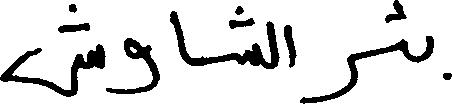X: (0, 0, 104, 101), (106, 33, 157, 98), (305, 48, 356, 103), (237, 1, 258, 70), (425, 31, 451, 84), (171, 6, 186, 67), (397, 0, 406, 62), (268, 16, 277, 73), (285, 20, 293, 72)
